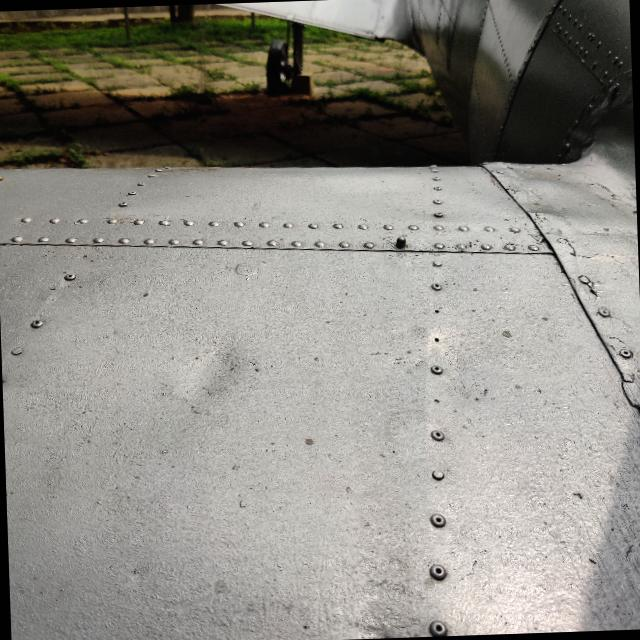dent: (144, 303, 280, 432)
